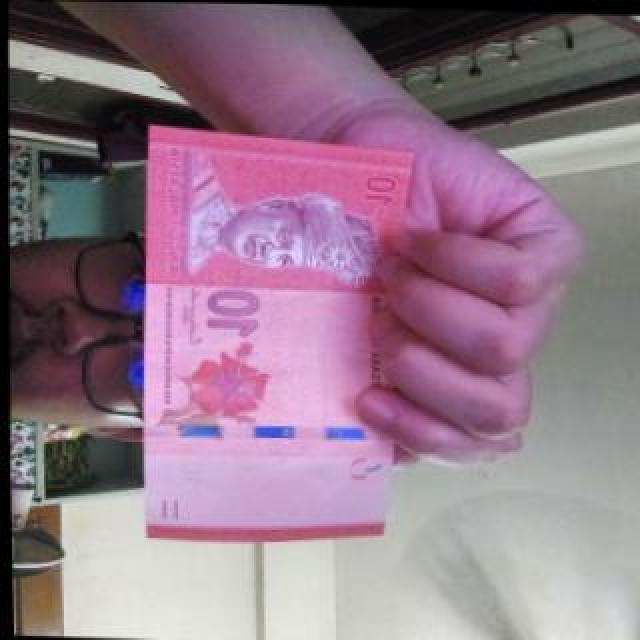10 Ringgit: (124, 120, 427, 551)
